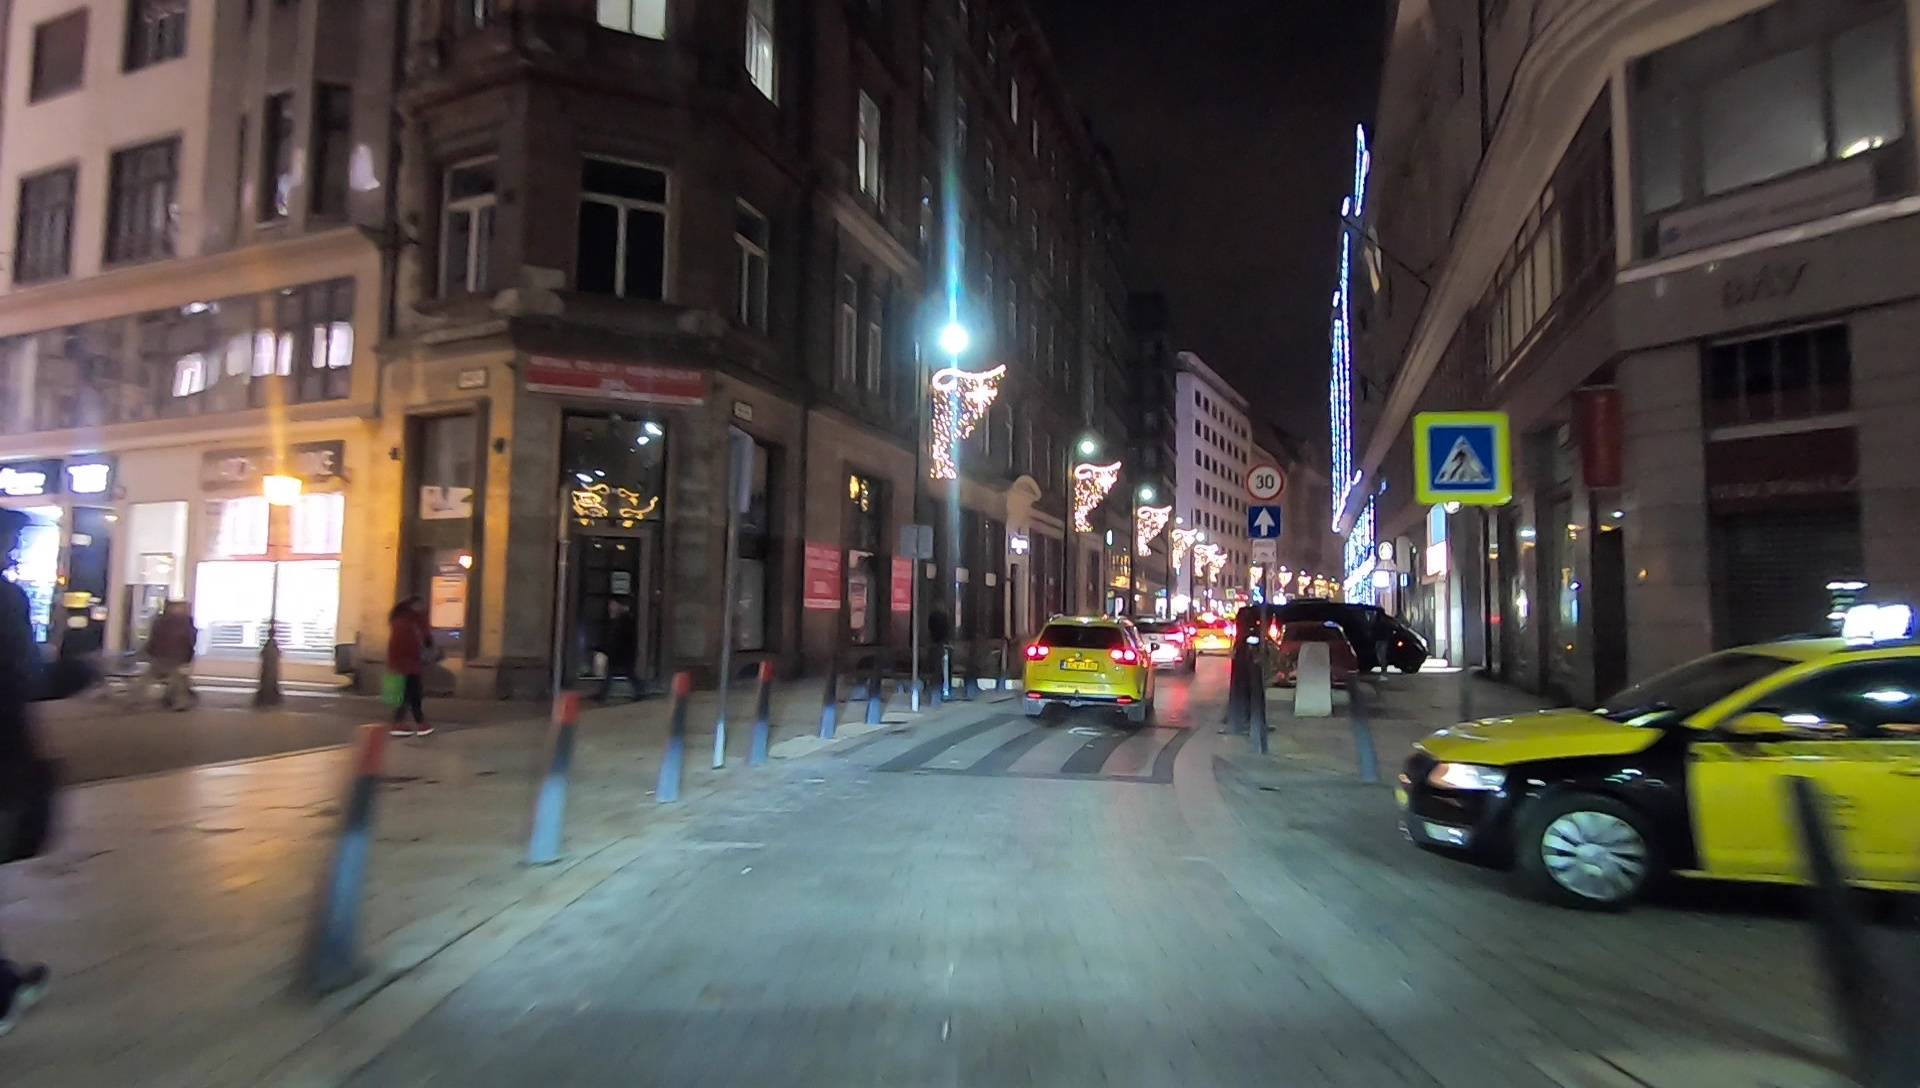person: (126, 597, 202, 719), (388, 591, 438, 736)
